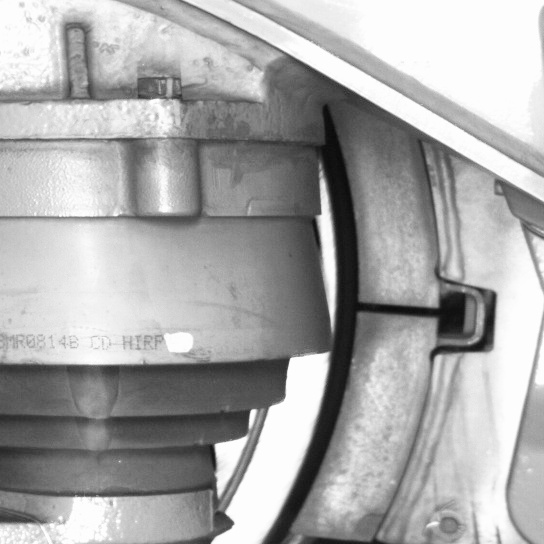KnifeSwitch: (261, 139, 449, 540)
